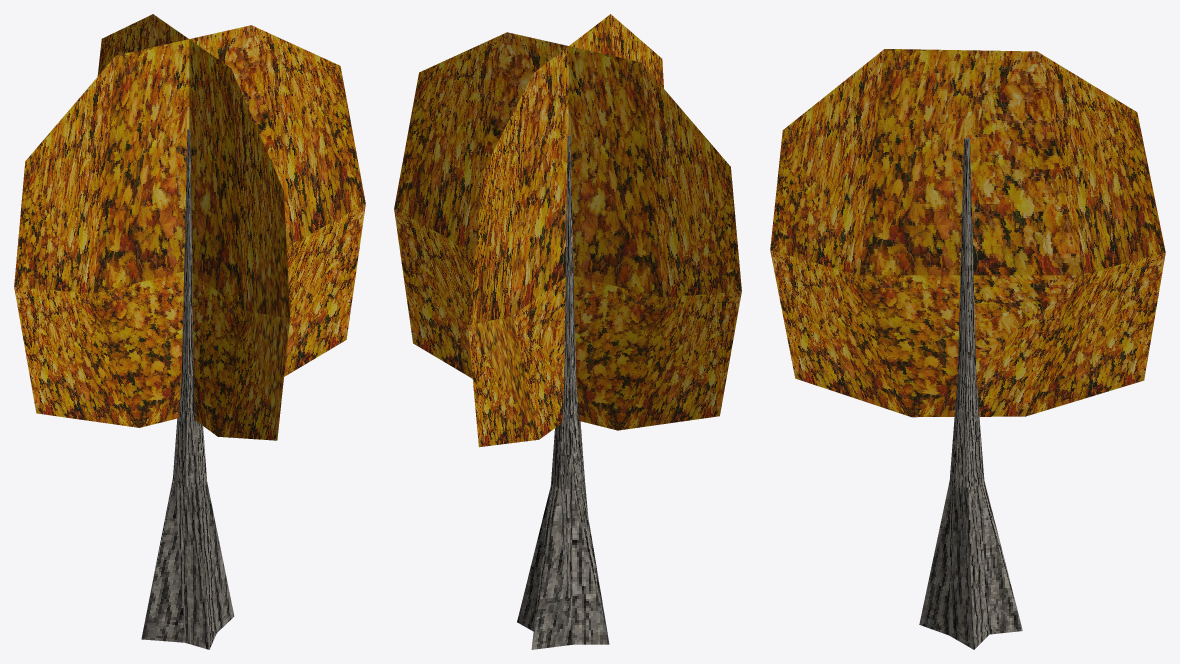
File: tree2.glb
3 views of the same model, side by side, from view 1: azimuth 30°, elevation 25°; view 2: azimuth 150°, elevation 25°; view 3: azimuth 270°, elevation 25° (orthographic). The views are drawn at different scales.
Visible parts, largest first — view 1: leaves, leaves2, trunk; view 2: leaves, leaves2, trunk; view 3: leaves2, trunk.
Part boxes in pixels (x1,y1,x2,y2): leaves: [14, 25, 365, 427]; leaves2: [97, 14, 290, 440]; trunk: [141, 129, 234, 649]; leaves: [394, 32, 741, 430]; leaves2: [468, 14, 663, 447]; trunk: [517, 135, 609, 649]; leaves2: [770, 49, 1165, 417]; trunk: [919, 138, 1022, 649].
Bounding box in the file's own units: 6.52 × 10.51 × 6.52.
2 materials, 2 textured.
